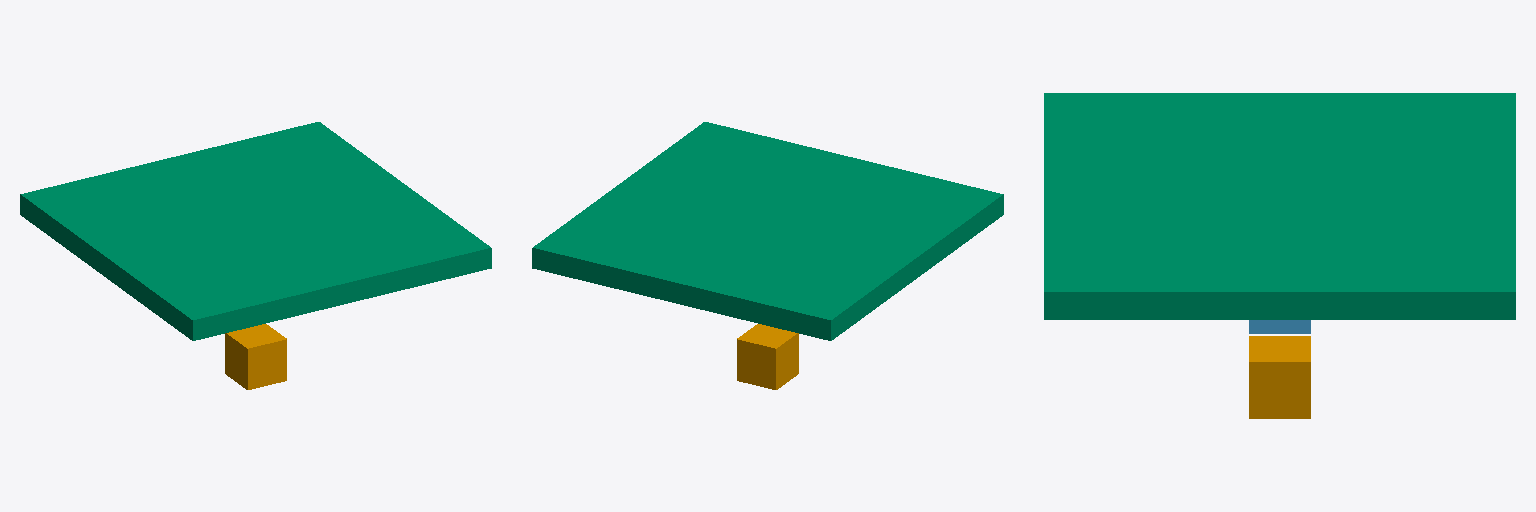
URDF robot description (simple_fixed_planar_joints):
<?xml version="1.0"?>
<robot name="simple_fixed_planar_joints">
  <link name="BaseLink">
    <visual>
      <origin rpy="0 0 0" xyz="0.0 0 0"/>
      <geometry>
        <box size="0.2 0.2 0.2"/>
      </geometry>
    </visual>
  </link>
  <link name="Arm:1">
    <visual>
      <origin rpy="0 0 0" xyz="0 0 0.15"/>
      <geometry>
        <box size="0.2 0.2 0.2"/>
      </geometry>
    </visual>
  </link>
  <link name="Arm:2">
    <visual>
      <origin rpy="0 0 0" xyz="0 0 0.1"/>
      <geometry>
        <box size="1.5 1.5 0.1"/>
      </geometry>
    </visual>
  </link>

  <joint name="joint_root" type="fixed">
    <origin rpy="0 0 0" xyz="0 0 0.15"/>
    <parent link="BaseLink"/>
    <child link="Arm:1"/>
  </joint>
  <joint name="joint_arm:1" type="planar">
    <origin rpy="0 0 0" xyz="0 0 0.35"/>
    <parent link="Arm:1"/>
    <child link="Arm:2"/>
    <axis xyz="0 0 1"/>
  </joint>
</robot>

--- Facts derived from the render (not from the file) ---
The picture shows the robot from 3 angles, left to right: view 1: azimuth 30°, elevation 25°; view 2: azimuth 150°, elevation 25°; view 3: azimuth 270°, elevation 25°; orthographic projection.
Robot: simple_fixed_planar_joints — 3 links, 2 joints (1 fixed, 1 planar); root link BaseLink; default pose: every joint at zero.
Visible links, largest first — view 1: Arm:2, BaseLink; view 2: Arm:2, BaseLink; view 3: Arm:2, BaseLink, Arm:1.
Link boxes in pixels (x1,y1,x2,y2): Arm:2: [20, 122, 491, 340]; BaseLink: [225, 324, 286, 389]; Arm:2: [532, 122, 1003, 340]; BaseLink: [737, 324, 798, 389]; Arm:2: [1044, 93, 1515, 319]; BaseLink: [1249, 336, 1310, 418]; Arm:1: [1249, 320, 1310, 333].
Bounding box of the posed robot: 1.5 × 1.5 × 0.75 m (x, y, z).
Geometry: primitives only (box / cylinder / sphere), no mesh files.